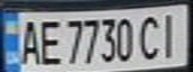0: (115, 15, 139, 63)
3: (100, 15, 121, 64)
7: (60, 16, 84, 65), (81, 16, 100, 65)
A: (15, 16, 42, 66)
C: (136, 11, 166, 61)
E: (36, 16, 63, 66)
I: (157, 9, 187, 60)
